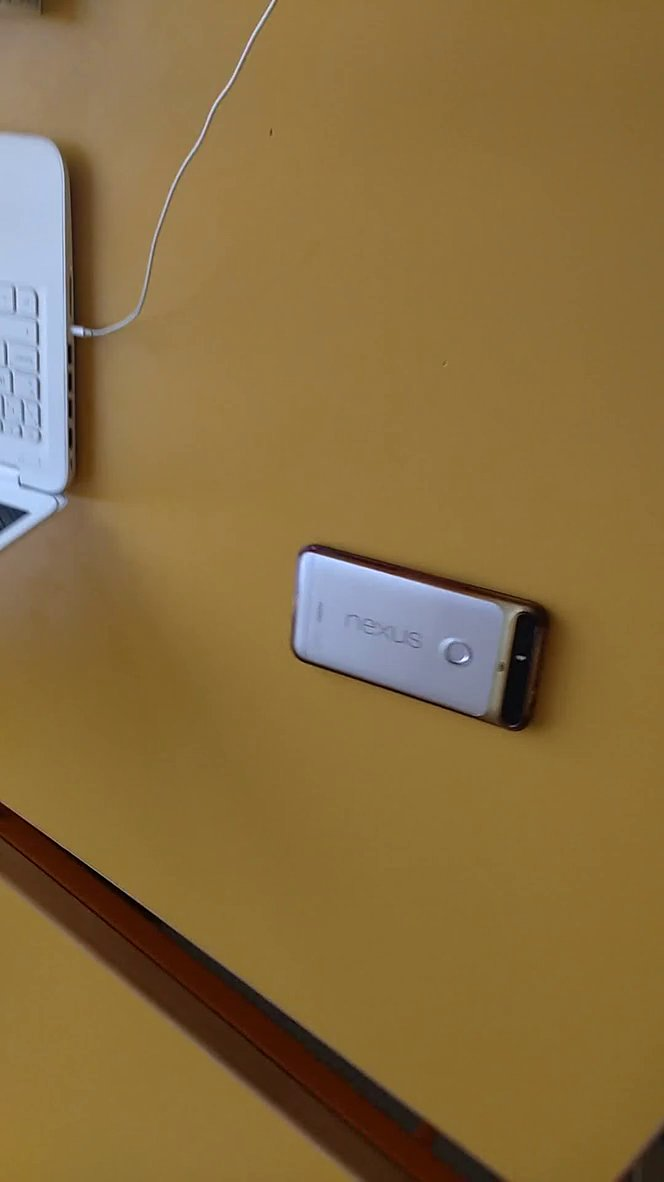phone: (276, 523, 584, 745)
